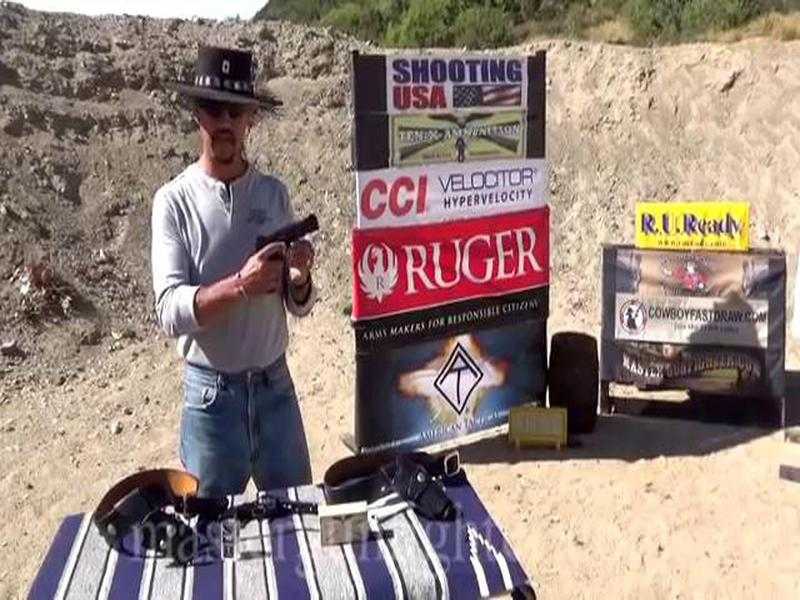Pistola: (242, 216, 333, 302)
